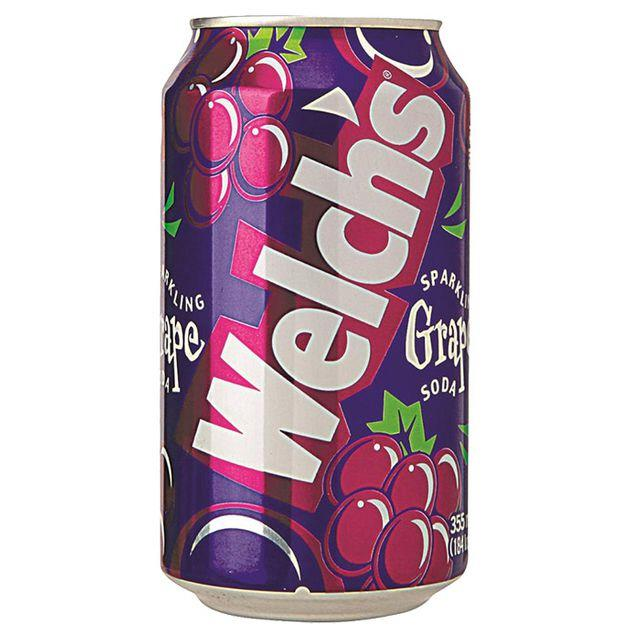welchs_grape: (118, 15, 509, 626)
